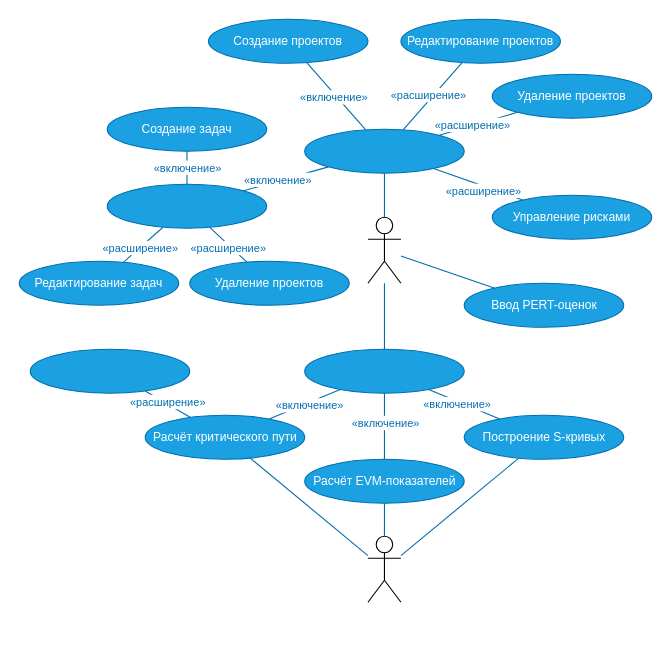
Some shapes in this 671 by 645 pixel diagram are drawn without their labels. The shapes that lost their labels are listed below. From the top down, each one's box as (x1, y1, x2, y2) in pixels, then its label:
(304, 128, 464, 173): Управление проектами
(106, 183, 267, 228): Управление задачами проекта
(367, 216, 401, 283): Сотрудник
(29, 348, 190, 393): Расчёт PERT-оценок
(304, 348, 464, 393): Формирование отчётов
(367, 535, 401, 602): ИС
